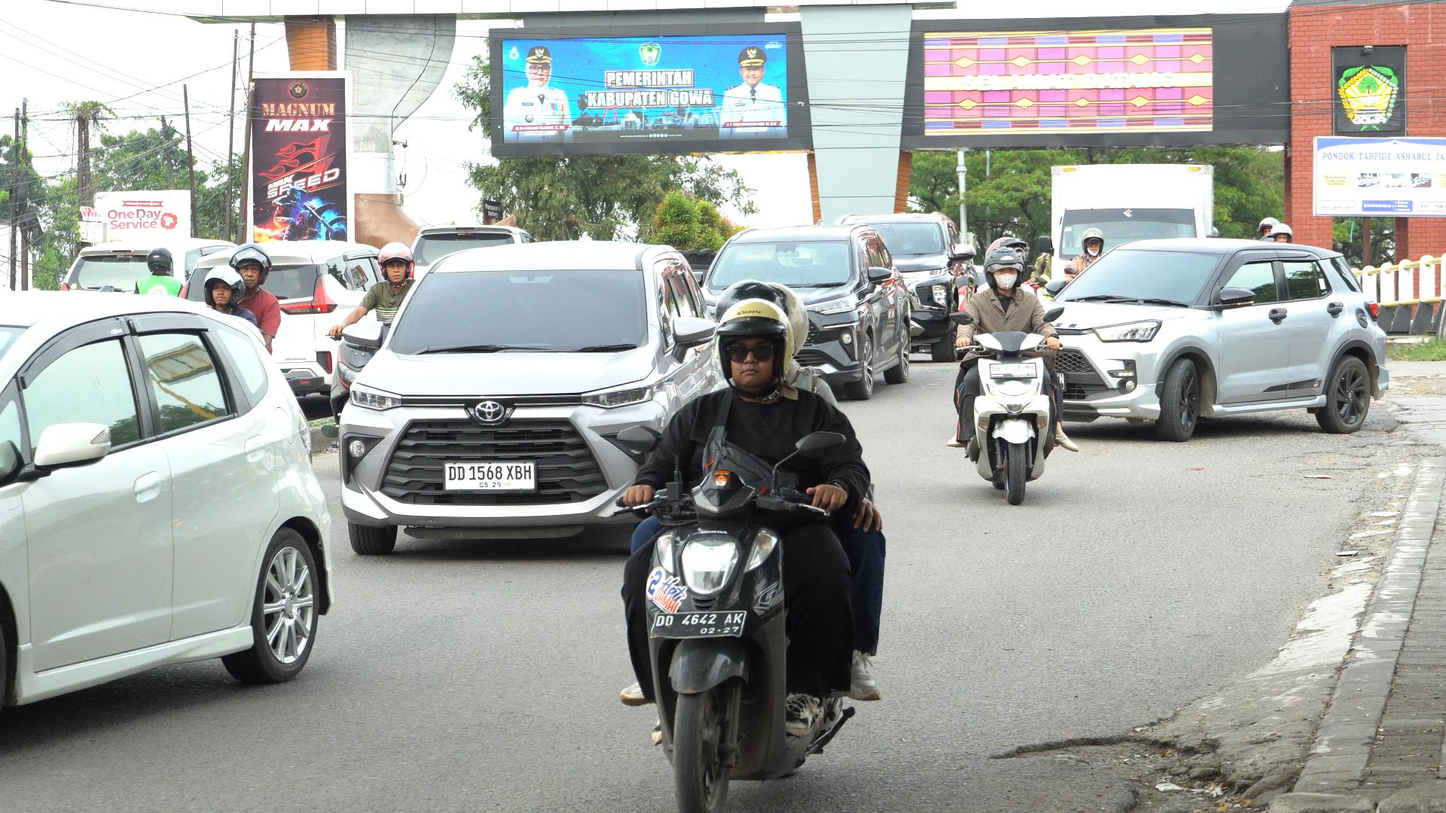number-plate: (648, 610, 746, 639), (987, 358, 1037, 381)
